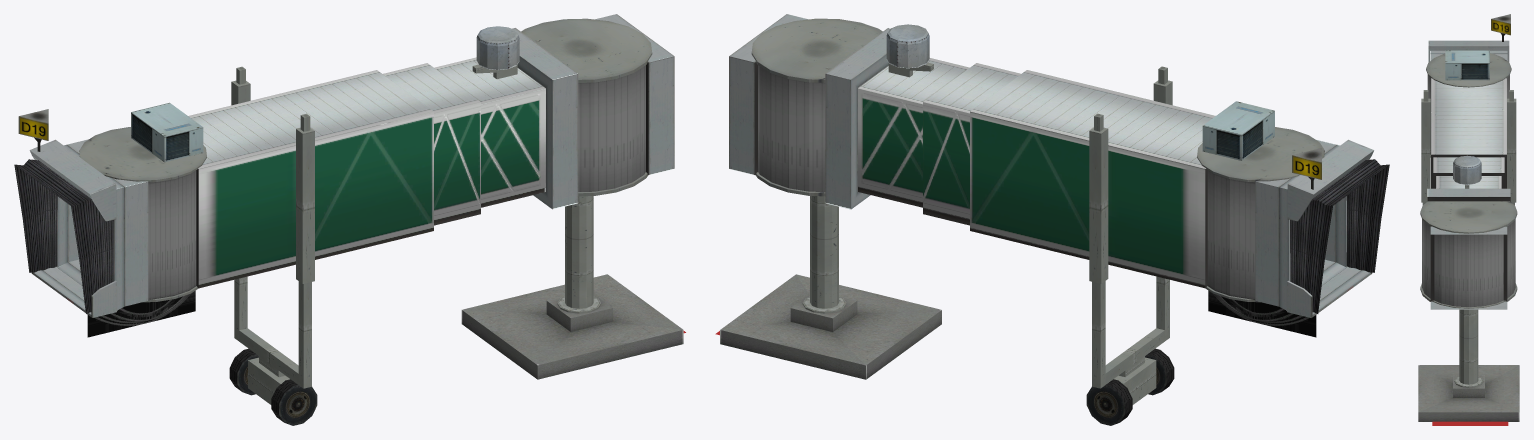
The model's file is jetways_static.gltf.
3 views of the same model, side by side, from view 1: azimuth 30°, elevation 25°; view 2: azimuth 150°, elevation 25°; view 3: azimuth 270°, elevation 25° (orthographic). The views are drawn at different scales.
Parts seen in each view (by area): view 1: node1; view 2: node1; view 3: node1, node2.
Part boxes in pixels (x1,y1,x2,y2): node1: (14,14,683,425); node1: (720,14,1389,425); node1: (1418,14,1519,421); node2: (1432,421,1508,425).
Size of the model in its own units: 18.72 by 9.35 by 4.
